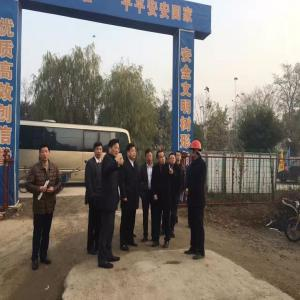none: (39, 144, 52, 164), (109, 140, 121, 158), (93, 142, 104, 159), (127, 144, 138, 161), (157, 151, 167, 167), (145, 150, 155, 164), (169, 153, 177, 165), (175, 151, 183, 163)
red: (190, 140, 203, 160)
